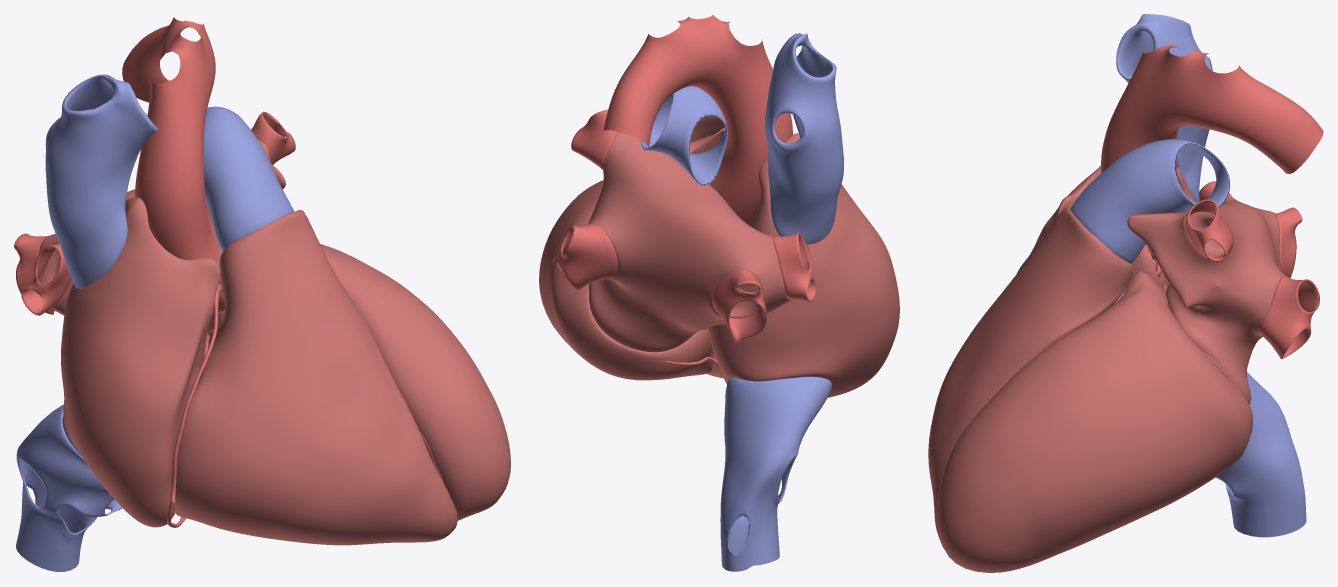
Rendered from heart.glb.
3 views of the same model, side by side, from view 1: azimuth 30°, elevation 25°; view 2: azimuth 150°, elevation 25°; view 3: azimuth 270°, elevation 25° (orthographic). The views are drawn at different scales.
Visible parts, largest first — view 1: VH_M_heart_right_ventricle, VH_M_right_cardiac_atrium, VH_M_heart_left_ventricle, VH_M_superior_vena_cava, VH_M_inferior_vena_cava_a, VH_M_aortic_arch, VH_M_pulmonary_trunk, VH_M_ascending_aorta, VH_M_pulmonary_vein_R_sup, VH_M_pulmonary_vein_L_sup, VH_M_left_cardiac_atrium, VH_M_right_coronary_artery (+1 smaller); view 2: VH_M_left_cardiac_atrium, VH_M_right_cardiac_atrium, VH_M_inferior_vena_cava_a, VH_M_aortic_arch, VH_M_superior_vena_cava, VH_M_heart_left_ventricle, VH_M_pulmonary_trunk, VH_M_ascending_aorta, VH_M_pulmonary_vein_L_inf, VH_M_pulmonary_vein_R_inf, VH_M_pulmonary_vein_R_sup, VH_M_pulmonary_vein_L_sup (+2 smaller); view 3: VH_M_heart_left_ventricle, VH_M_heart_right_ventricle, VH_M_left_cardiac_atrium, VH_M_aortic_arch, VH_M_pulmonary_trunk, VH_M_inferior_vena_cava_a, VH_M_superior_vena_cava, VH_M_pulmonary_vein_L_inf, VH_M_pulmonary_vein_L_sup, VH_M_pulmonary_vein_R_inf, VH_M_right_cardiac_atrium, VH_M_ascending_aorta (+1 smaller).
Boxes of the visible parts, left/top/right/bottom form: VH_M_heart_right_ventricle: left=171, top=210, right=457, bottom=545; VH_M_right_cardiac_atrium: left=61, top=197, right=220, bottom=527; VH_M_heart_left_ventricle: left=208, top=244, right=510, bottom=520; VH_M_superior_vena_cava: left=45, top=74, right=158, bottom=288; VH_M_inferior_vena_cava_a: left=16, top=404, right=122, bottom=571; VH_M_aortic_arch: left=122, top=17, right=215, bottom=180; VH_M_pulmonary_trunk: left=204, top=106, right=294, bottom=251; VH_M_ascending_aorta: left=135, top=160, right=217, bottom=259; VH_M_pulmonary_vein_R_sup: left=21, top=243, right=71, bottom=315; VH_M_pulmonary_vein_L_sup: left=251, top=111, right=295, bottom=164; VH_M_left_cardiac_atrium: left=38, top=138, right=285, bottom=315; VH_M_right_coronary_artery: left=167, top=283, right=222, bottom=527; VH_M_left_cardiac_atrium: left=588, top=132, right=791, bottom=352; VH_M_right_cardiac_atrium: left=708, top=133, right=899, bottom=397; VH_M_inferior_vena_cava_a: left=720, top=376, right=831, bottom=571; VH_M_aortic_arch: left=603, top=15, right=788, bottom=148; VH_M_superior_vena_cava: left=764, top=33, right=843, bottom=244; VH_M_heart_left_ventricle: left=539, top=180, right=713, bottom=380; VH_M_pulmonary_trunk: left=640, top=86, right=728, bottom=185; VH_M_ascending_aorta: left=709, top=113, right=792, bottom=217; VH_M_pulmonary_vein_L_inf: left=552, top=223, right=617, bottom=290; VH_M_pulmonary_vein_R_inf: left=712, top=269, right=767, bottom=341; VH_M_pulmonary_vein_R_sup: left=772, top=233, right=815, bottom=301; VH_M_pulmonary_vein_L_sup: left=571, top=109, right=617, bottom=169; VH_M_heart_left_ventricle: left=936, top=271, right=1252, bottom=572; VH_M_heart_right_ventricle: left=928, top=206, right=1133, bottom=549; VH_M_left_cardiac_atrium: left=1127, top=197, right=1285, bottom=404; VH_M_aortic_arch: left=1107, top=44, right=1323, bottom=173; VH_M_pulmonary_trunk: left=1070, top=139, right=1229, bottom=263; VH_M_inferior_vena_cava_a: left=1215, top=372, right=1306, bottom=537; VH_M_superior_vena_cava: left=1116, top=14, right=1212, bottom=202; VH_M_pulmonary_vein_L_inf: left=1258, top=275, right=1319, bottom=359; VH_M_pulmonary_vein_L_sup: left=1185, top=199, right=1232, bottom=261; VH_M_pulmonary_vein_R_inf: left=1275, top=207, right=1302, bottom=278; VH_M_right_cardiac_atrium: left=1017, top=166, right=1195, bottom=273; VH_M_ascending_aorta: left=1101, top=128, right=1176, bottom=173.
Size of the model in its own units: 0.1243 by 0.1695 by 0.1156.
